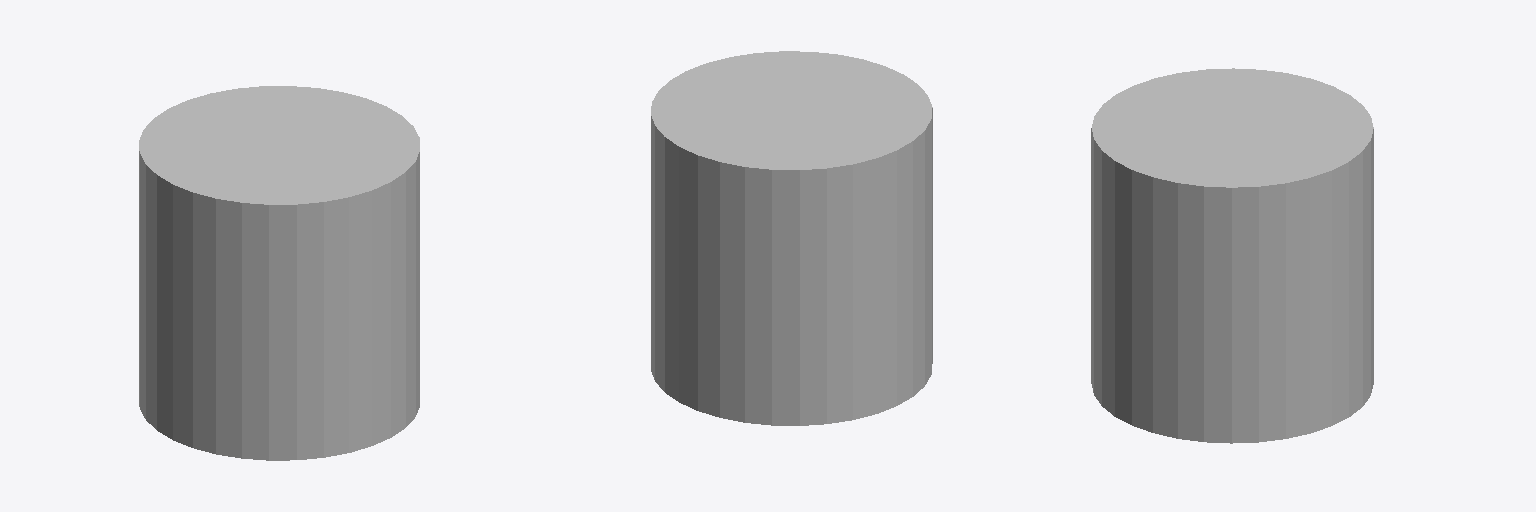
File: beacon2.obj
The picture shows the model from 3 angles: view 1: azimuth 30°, elevation 25°; view 2: azimuth 150°, elevation 25°; view 3: azimuth 270°, elevation 25°; orthographic projection.
Parts seen in each view (by area): view 1: Beacon2_Cylinder.004; view 2: Beacon2_Cylinder.004; view 3: Beacon2_Cylinder.004.
Part boxes in pixels (x1,y1,x2,y2): Beacon2_Cylinder.004: (139, 86, 419, 460); Beacon2_Cylinder.004: (651, 51, 932, 425); Beacon2_Cylinder.004: (1091, 68, 1373, 443).
Size of the model in its own units: 0.0015 by 0.0015 by 0.002.